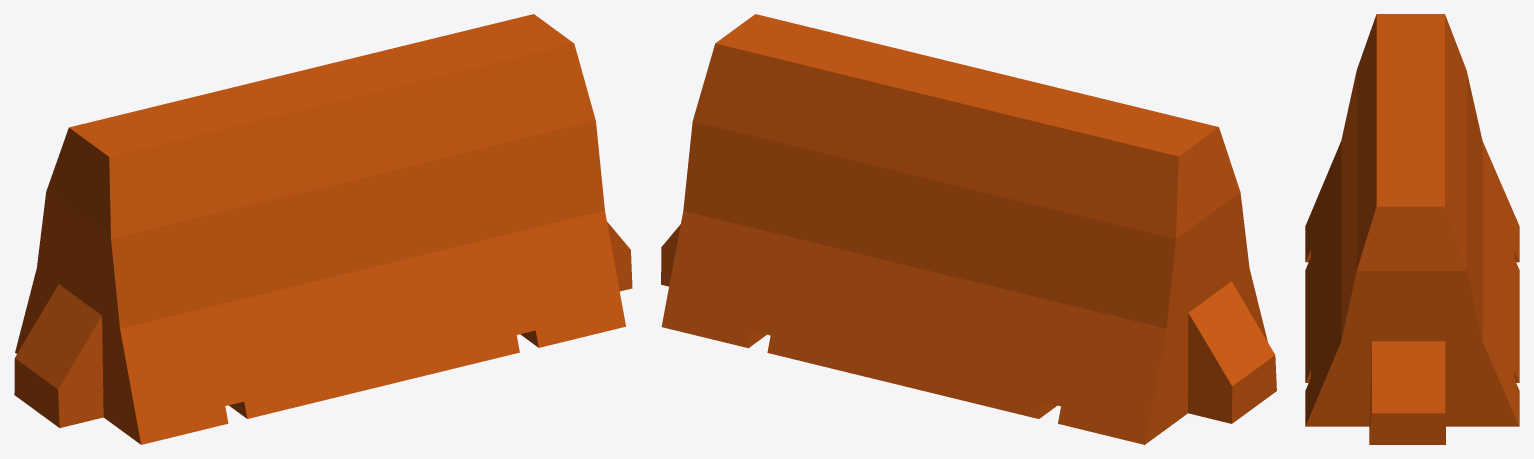
Rendered from BlockOrage.fbx.
The picture shows the model from 3 angles, left to right: view 1: azimuth 30°, elevation 25°; view 2: azimuth 150°, elevation 25°; view 3: azimuth 270°, elevation 25°; orthographic projection. The views are drawn at different scales.
Visible parts, largest first — view 1: Cube, Cube.001; view 2: Cube, Cube.001; view 3: Cube.001, Cube.
Boxes of the visible parts, x1=… form: Cube: x1=14, y1=71, x2=385, y2=444; Cube.001: x1=299, y1=14, x2=632, y2=384; Cube: x1=905, y1=70, x2=1276, y2=444; Cube.001: x1=661, y1=14, x2=984, y2=386; Cube.001: x1=1305, y1=109, x2=1519, y2=444; Cube: x1=1305, y1=14, x2=1519, y2=326.
Size of the model in its own units: 1009 by 429 by 385.
